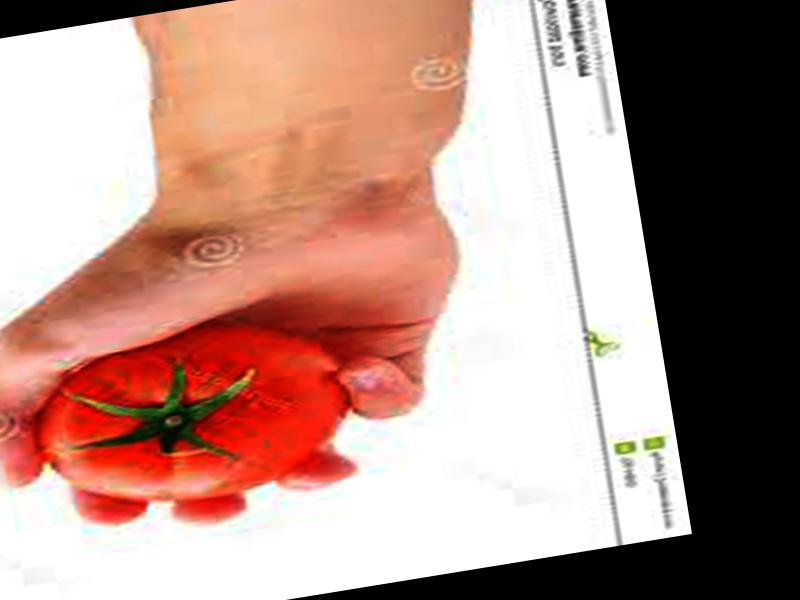Tomato: (29, 309, 363, 522)
